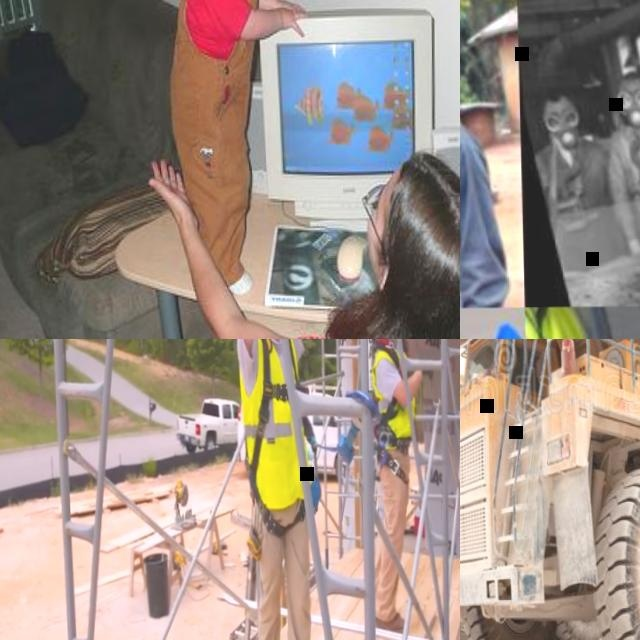Hardhat: (492, 321, 523, 339)
Mask: (553, 120, 579, 146), (623, 103, 640, 126)
NO-Hardhat: (385, 150, 460, 307), (541, 89, 569, 106), (618, 68, 640, 85)
NO-Mask: (363, 214, 388, 281)
NO-Safety Vest: (168, 0, 259, 131), (536, 137, 612, 266), (460, 95, 481, 304), (615, 120, 640, 228)
Person: (147, 150, 460, 339), (141, 0, 311, 297), (230, 339, 332, 640), (365, 339, 437, 633), (534, 90, 619, 276), (460, 0, 511, 306)
Safety Vest: (237, 339, 311, 508), (369, 339, 416, 437)
machinery: (460, 339, 640, 640)
vehicle: (235, 385, 377, 475), (175, 397, 240, 452)
